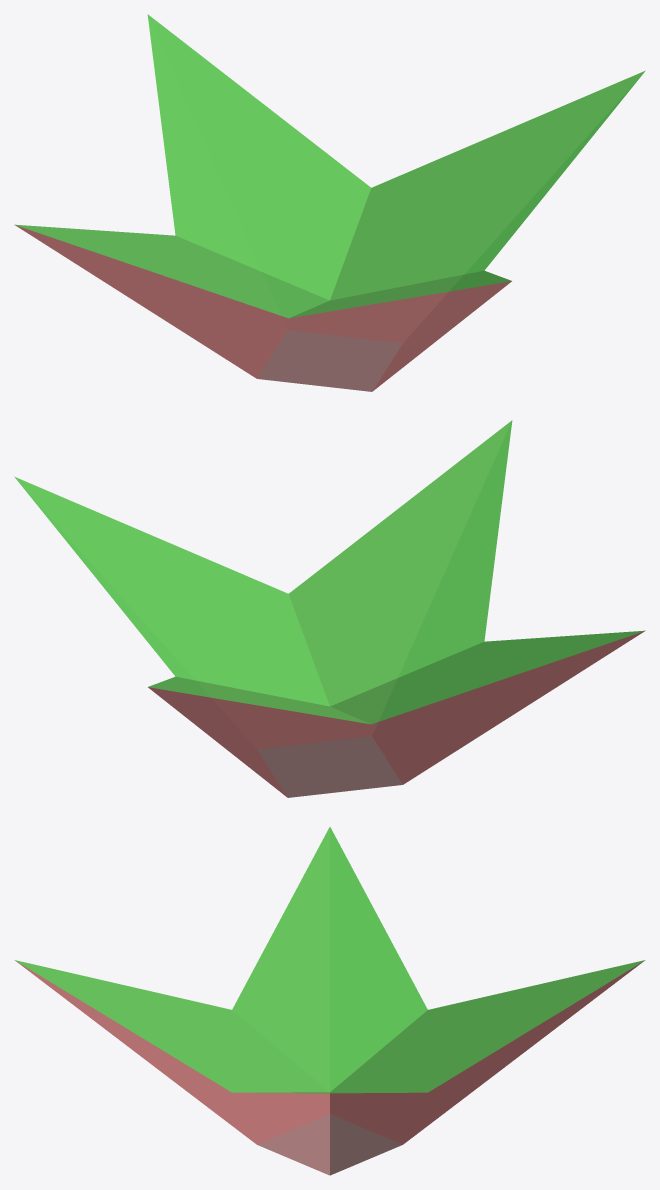
File: pipa4pnc.obj
3 views of the same model, one above another, from view 1: azimuth 30°, elevation 25°; view 2: azimuth 150°, elevation 25°; view 3: azimuth 270°, elevation 25° (orthographic). The views are drawn at different scales.
Bounding box in the file's own units: 8.65 × 2.79 × 8.65.
